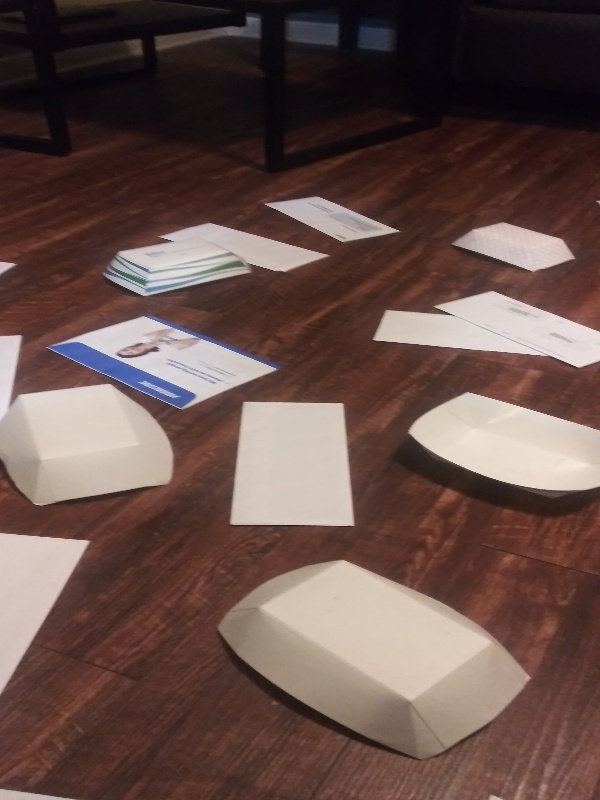plate: (211, 556, 538, 769), (400, 386, 600, 505), (1, 380, 178, 509), (100, 235, 254, 299), (446, 220, 582, 277)
